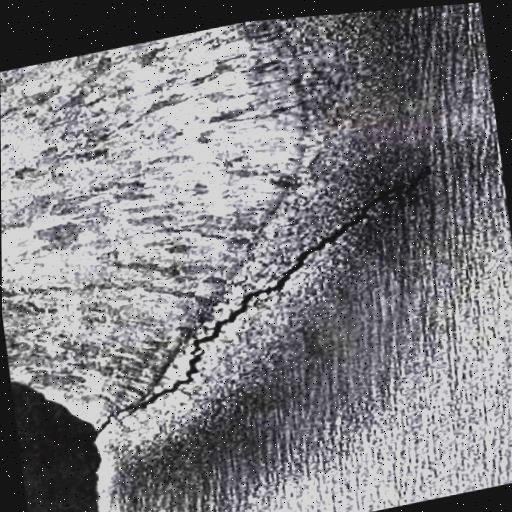crack: (55, 149, 467, 446)
